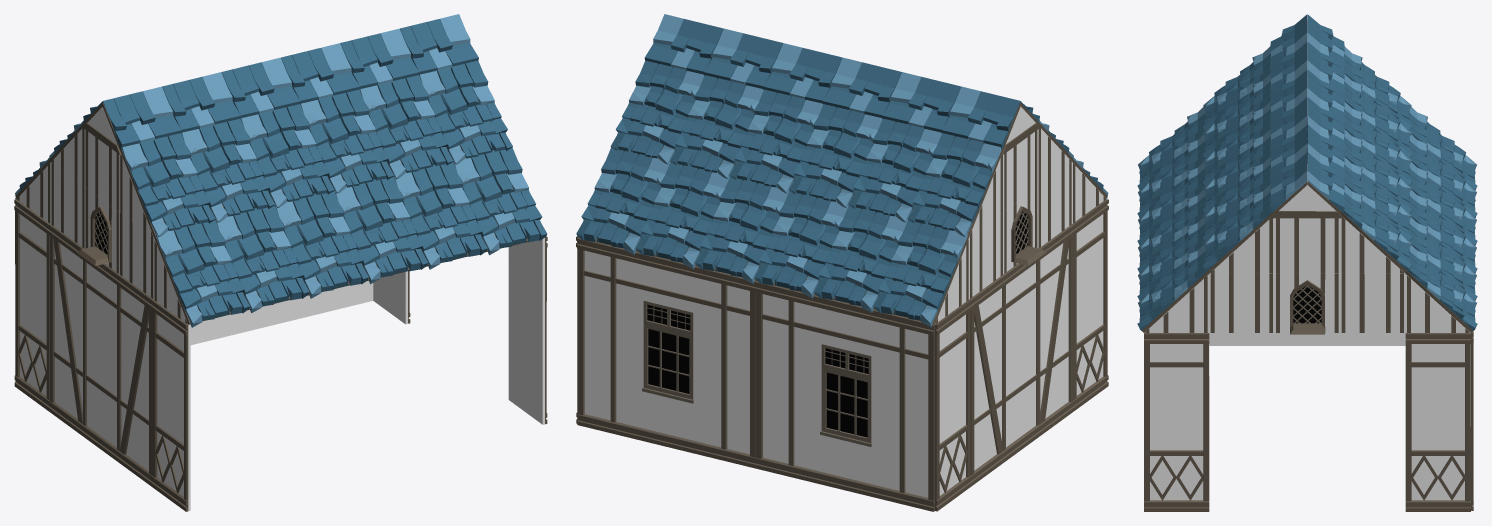
The model's file is House_01_parts.fbx.
The picture shows the model from 3 angles, left to right: view 1: azimuth 30°, elevation 25°; view 2: azimuth 150°, elevation 25°; view 3: azimuth 270°, elevation 25°; orthographic projection. The views are drawn at different scales.
Parts seen in each view (by area): view 1: WALL_02_2, WALL_01_1.003, WALL_01_1.001, WALL_01_1.002, ROOF_base_1.017, ROOF_base_1.023, ROOF_base_1.013, ROOF_base_1.015, ROOF_base_1.012, ROOF_base_1.016, ROOF_base_1.014, ROOF_base_1.018 (+22 smaller); view 2: WINDOW_03_1.001, WINDOW_03_1, WALL_02_2, WALL_01_1.002, WALL_01_1.003, ROOF_base_1.005, ROOF_base_1.011, ROOF_base_1.001, ROOF_base_1, ROOF_base_1.003, ROOF_base_1.004, ROOF_base_1.002 (+20 smaller); view 3: WALL_01_1, WALL_01_1.001, ROOF_triangle_window_grid_9, ROOF_up_quad_2, ROOF_up_quad_3, ROOF_up_quad_4, WALL_02_2, ROOF_base_1.006, ROOF_base_1.018, ROOF_base_1, ROOF_base_1.012, ROOF_trinagle_left_wood_2 (+37 smaller).
Part boxes in pixels (x1,y1,x2,y2): WALL_02_2: (48, 224, 153, 486); WALL_01_1.003: (151, 300, 190, 511); WALL_01_1.001: (508, 236, 547, 424); WALL_01_1.002: (14, 199, 50, 411); ROOF_base_1.017: (154, 220, 249, 327); ROOF_base_1.023: (120, 133, 215, 237); ROOF_base_1.013: (393, 162, 487, 269); ROOF_base_1.015: (275, 191, 368, 298); ROOF_base_1.012: (453, 147, 547, 255); ROOF_base_1.016: (215, 205, 309, 313); ROOF_base_1.014: (334, 176, 428, 284); ROOF_base_1.018: (419, 60, 512, 164); WINDOW_03_1.001: (755, 281, 934, 511); WINDOW_03_1: (577, 237, 756, 468); WALL_02_2: (969, 224, 1074, 485); WALL_01_1.002: (935, 299, 971, 511); WALL_01_1.003: (1072, 199, 1108, 410); ROOF_base_1.005: (873, 220, 968, 327); ROOF_base_1.011: (907, 133, 1003, 236); ROOF_base_1.001: (635, 162, 729, 269); ROOF_base_1: (576, 147, 670, 254); ROOF_base_1.003: (754, 191, 848, 298); ROOF_base_1.004: (814, 205, 907, 312); ROOF_base_1.002: (695, 176, 788, 283); WALL_01_1: (1405, 333, 1470, 511); WALL_01_1.001: (1144, 333, 1209, 511); ROOF_triangle_window_grid_9: (1274, 273, 1340, 334); ROOF_up_quad_2: (1209, 273, 1274, 332); ROOF_up_quad_3: (1340, 273, 1405, 332); ROOF_up_quad_4: (1274, 218, 1340, 273); WALL_02_2: (1209, 169, 1405, 345); ROOF_base_1.006: (1340, 185, 1411, 273); ROOF_base_1.018: (1203, 185, 1274, 273); ROOF_base_1: (1405, 245, 1477, 332); ROOF_base_1.012: (1137, 245, 1208, 332); ROOF_trinagle_left_wood_2: (1144, 274, 1209, 332).
Bounding box in the file's own units: 656 × 559 × 520.
